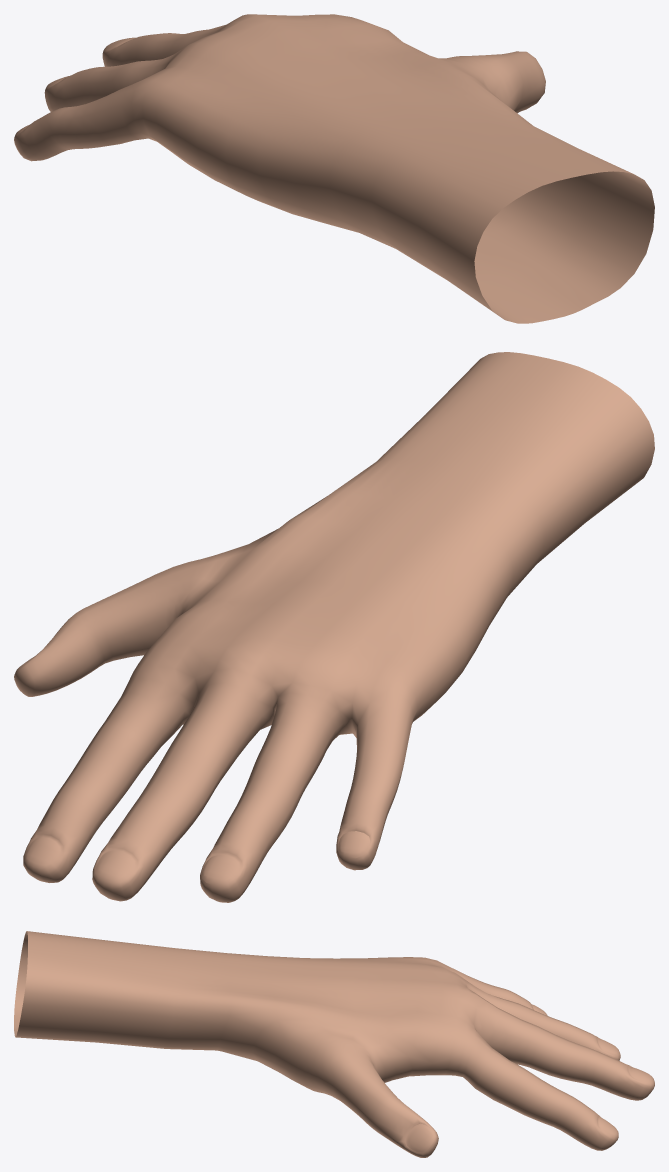
Rendered from hand2.obj.
3 renders of one model, top to bottom at view 1: azimuth 30°, elevation 25°; view 2: azimuth 150°, elevation 25°; view 3: azimuth 270°, elevation 25°, orthographic. The views are drawn at different scales.
Visible parts, largest first — view 1: Cube.005_Cube.017; view 2: Cube.005_Cube.017; view 3: Cube.005_Cube.017.
Boxes of the visible parts, bbox=[...] form: Cube.005_Cube.017: bbox=[14, 14, 654, 323]; Cube.005_Cube.017: bbox=[14, 352, 654, 902]; Cube.005_Cube.017: bbox=[14, 931, 654, 1157].
Bounding box in the file's own units: 1.77 × 0.9564 × 3.23.
